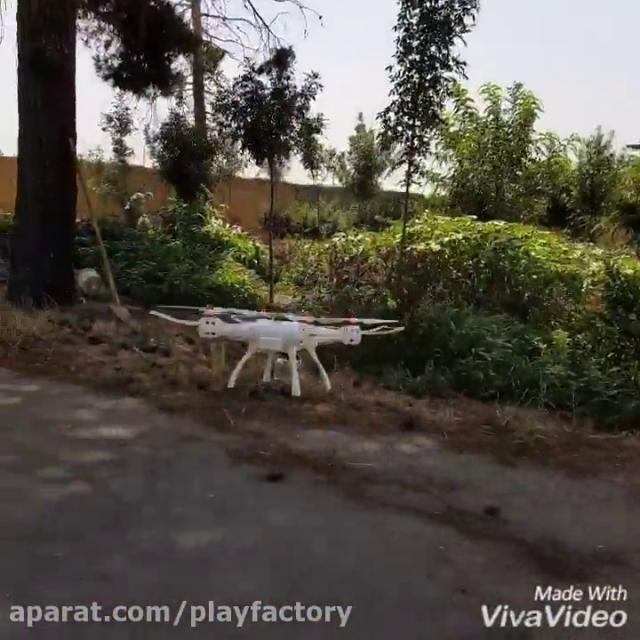drone: (149, 302, 407, 396)
